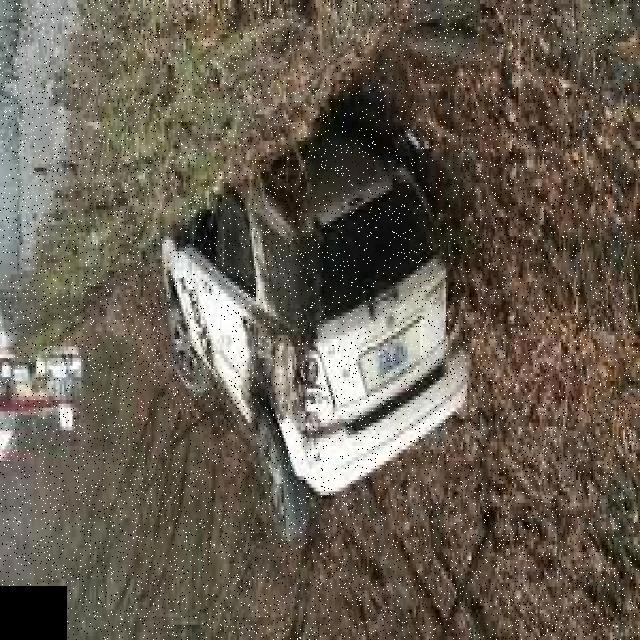severe: (157, 101, 477, 547)
